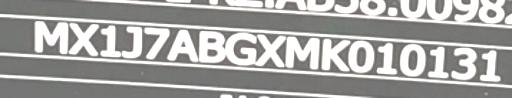letter: (284, 33, 322, 73), (318, 33, 354, 75), (33, 18, 71, 54), (224, 28, 258, 66), (254, 30, 288, 68), (449, 43, 481, 82), (68, 21, 102, 57), (164, 28, 200, 62), (196, 28, 228, 66), (398, 40, 430, 77), (474, 46, 506, 83), (344, 38, 376, 74), (424, 42, 452, 79), (142, 25, 172, 59), (374, 39, 400, 78), (118, 22, 146, 58), (96, 22, 122, 56)
